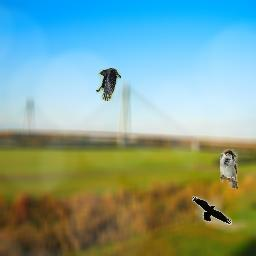Crow: (192, 196, 232, 225), (96, 68, 121, 101)
Sparrow: (220, 149, 238, 189)
